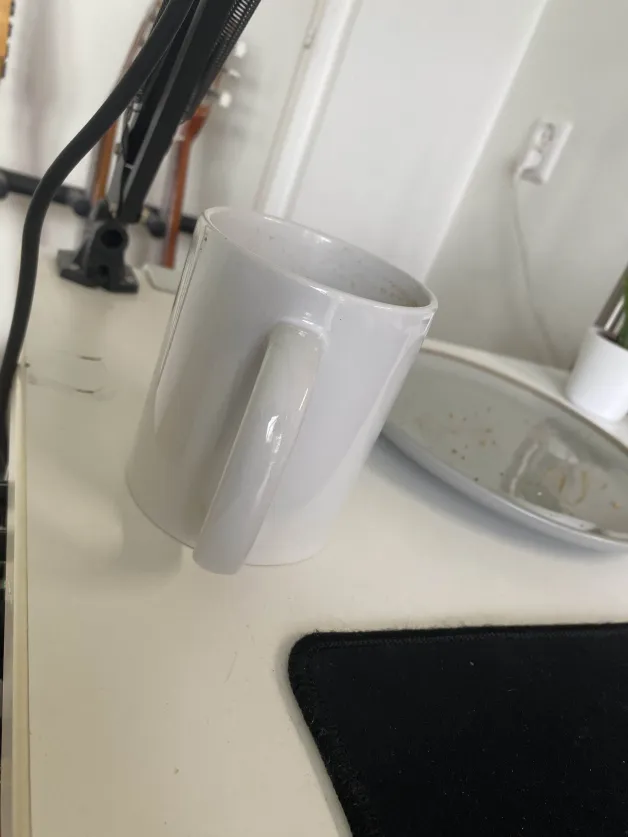mug: (119, 176, 446, 589)
